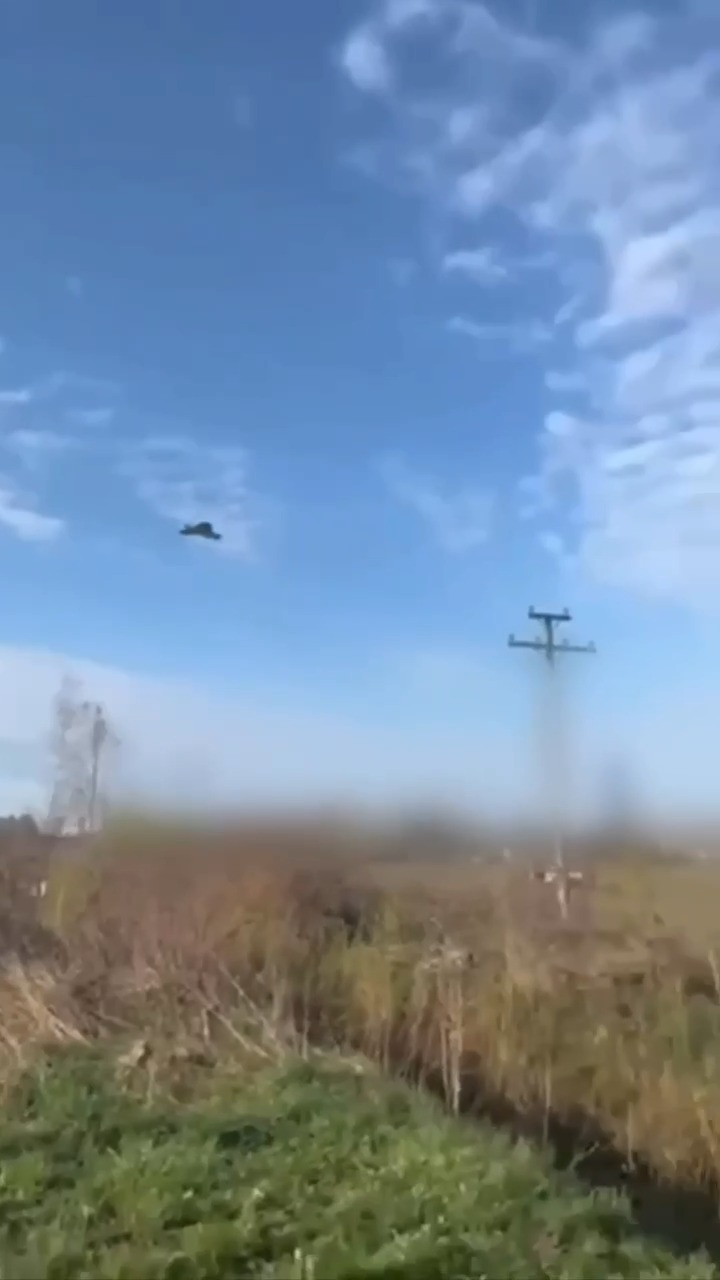shahed: (175, 515, 231, 544)
